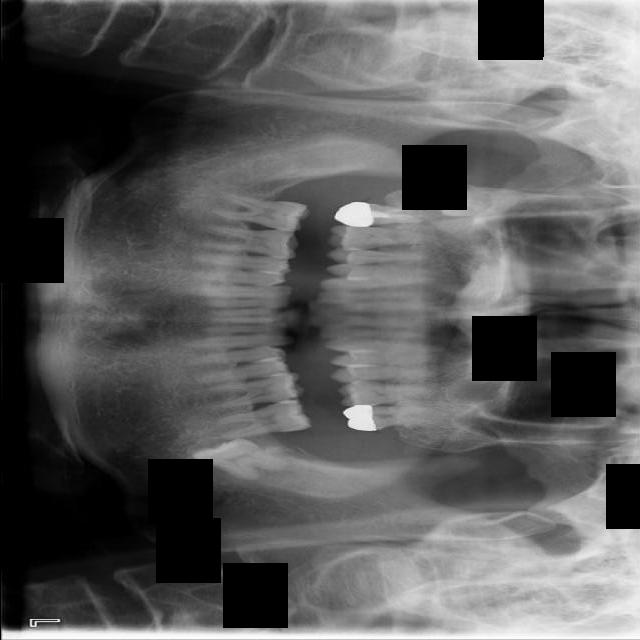3M ESPE Implant: (429, 185, 525, 218)
52: (340, 402, 376, 437), (332, 200, 374, 228)
73: (367, 199, 440, 226), (16, 619, 22, 625)
BioHorizons Implant: (341, 399, 470, 432)
Biomet 3i Implant: (187, 421, 290, 495)
Blue Sky Bio Implant: (208, 397, 313, 443)
Caries: (332, 201, 441, 230)
Implant: (208, 188, 311, 235)
